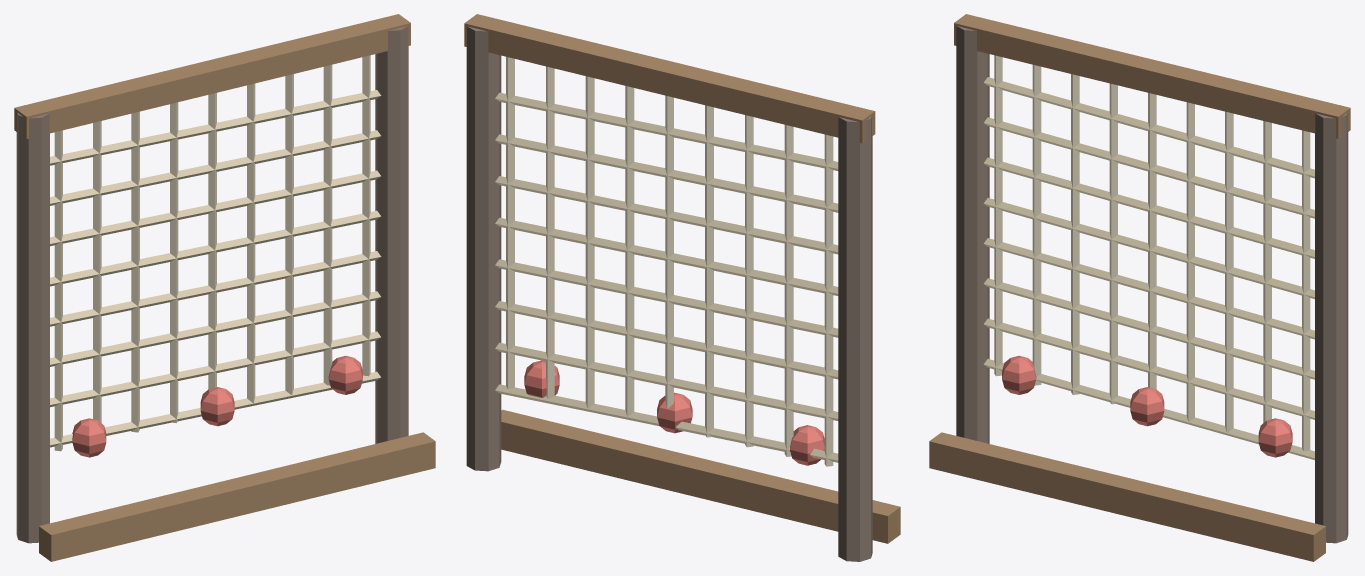
File: ws_camp_nets.glb
3 renders of one model, left to right at view 1: azimuth 30°, elevation 25°; view 2: azimuth 150°, elevation 25°; view 3: azimuth 330°, elevation 25°, orthographic. The views are drawn at different scales.
Visible parts, largest first — view 1: ws_camp_nets; view 2: ws_camp_nets; view 3: ws_camp_nets.
Part boxes in pixels (left/top/right/bottom): ws_camp_nets: left=14, top=14, right=435, bottom=561; ws_camp_nets: left=464, top=14, right=900, bottom=561; ws_camp_nets: left=929, top=14, right=1350, bottom=561.
Size of the model in its own units: 0.91 by 0.955 by 0.16.
